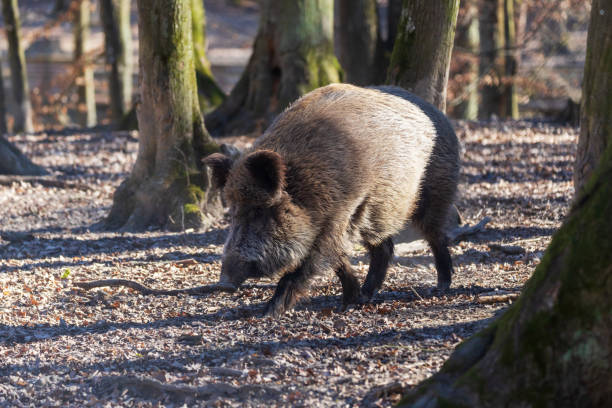pig: (206, 114, 479, 292)
